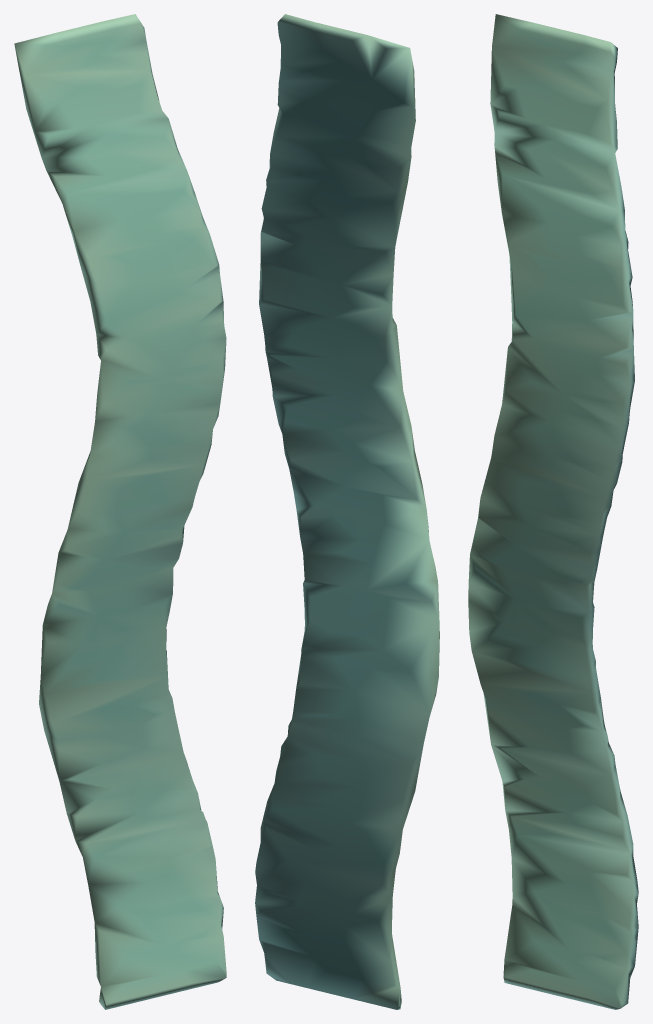
Rendered from hero_scarf_tail.glb.
3 renders of one model, left to right at view 1: azimuth 30°, elevation 25°; view 2: azimuth 150°, elevation 25°; view 3: azimuth 330°, elevation 25°, orthographic. The views are drawn at different scales.
Visible parts, largest first — view 1: geometry_0; view 2: geometry_0; view 3: geometry_0.
Boxes of the visible parts, <box> form: geometry_0: <box>14,14,226,1009</box>; geometry_0: <box>255,14,439,1009</box>; geometry_0: <box>468,14,638,1009</box>.
Bounding box in the file's own units: 0.1398 × 0.7201 × 0.0598.
